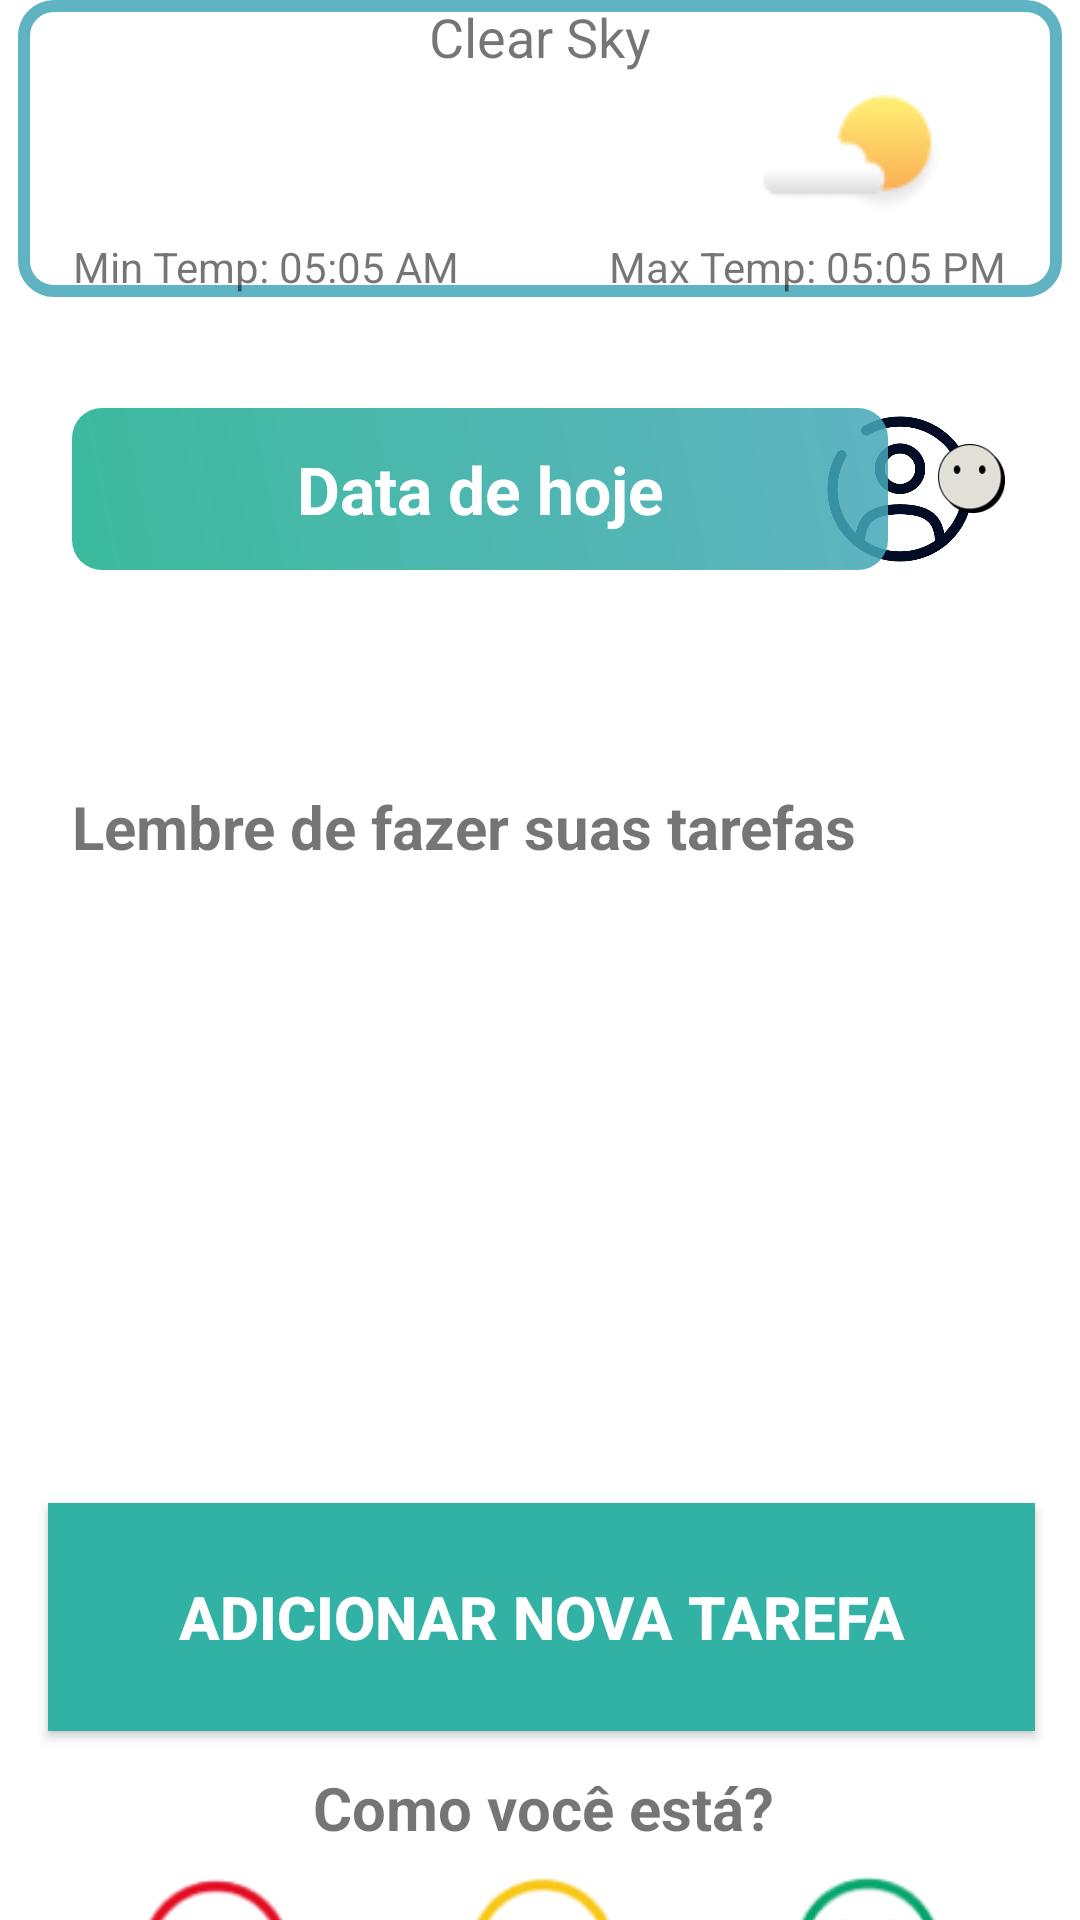

Icon click points for this 1080×1920 phone screenshot, format (x=x, y=y):
clima: (x=850, y=145)
